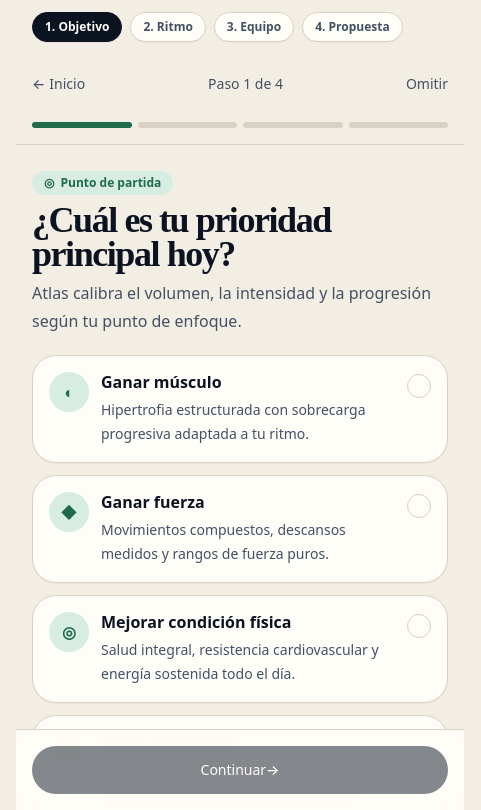
Test: OnboardingWizard › renders the goal step with its options and a disabled continue until a choice is made
This screenshot has width=481, height=810.
Expected: the heading "¿Cuál es tu prioridad principal hoy?" is shown, [32,200,331,274]
Expected: the text "Punto de partida" is shown, [60,175,161,191]
Click the radio button with test id "onboarding-option".
click(240, 409)  # box [32,355,448,463]
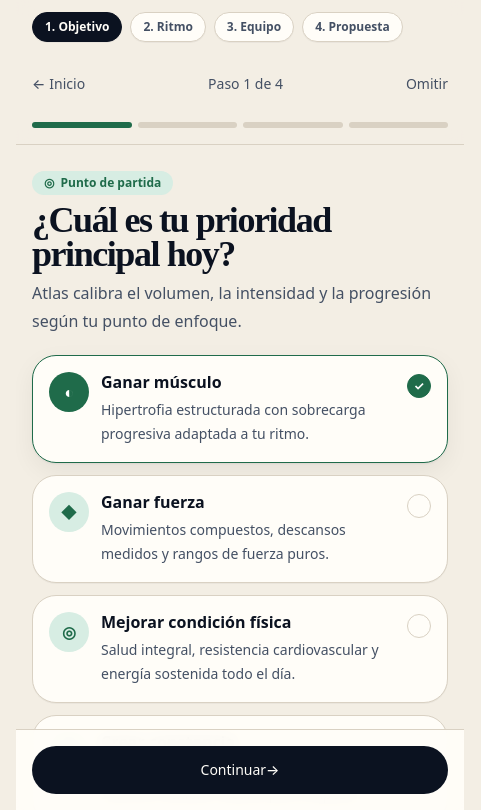
Result: the button with test id "onboarding-continue" is enabled at [32,746,448,794]
